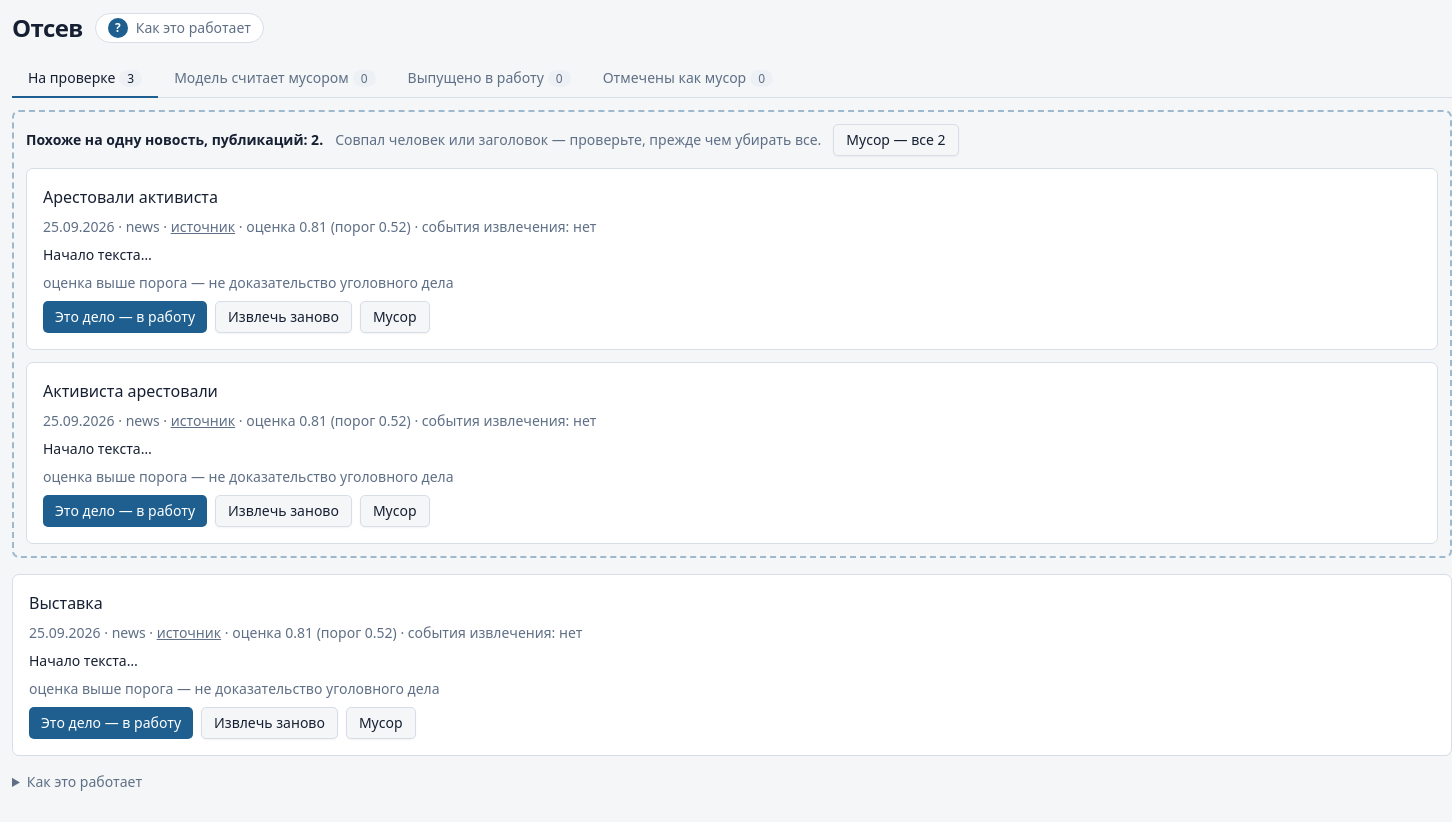
Scenario: says «Мусор» of one and shows a refusal
Click the button "Мусор" below "Выставка": (381, 723) top-left (346, 707), bottom-right (416, 739)
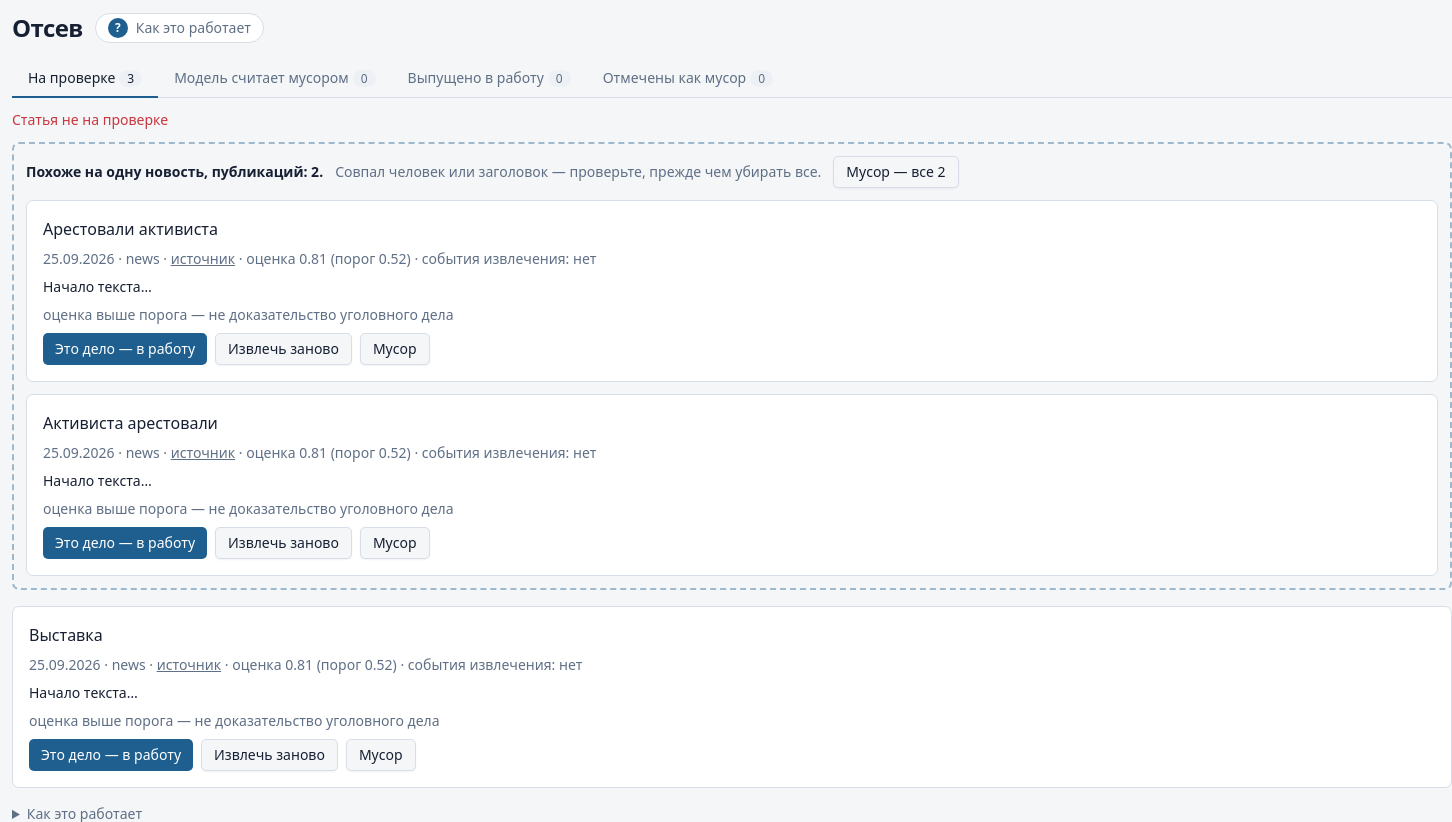
Expected: the text "Статья не на проверке" is shown, top-left (12, 110), bottom-right (168, 129)
